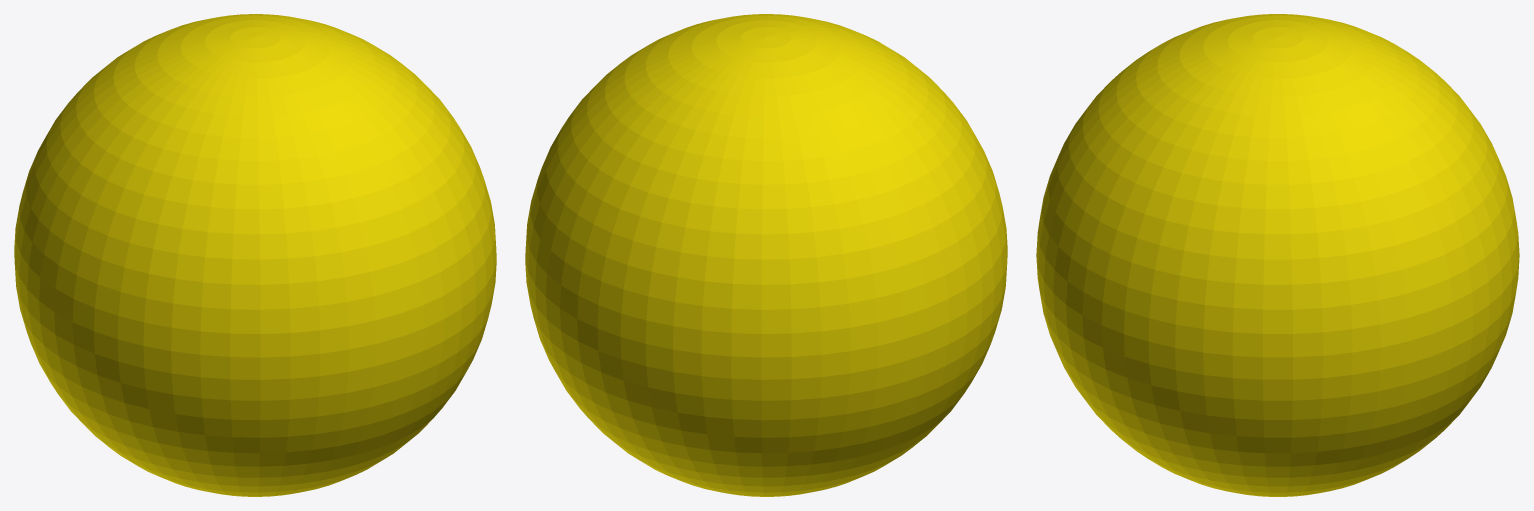
File: esfera.fbx
The picture shows the model from 3 angles, left to right: view 1: azimuth 30°, elevation 25°; view 2: azimuth 150°, elevation 25°; view 3: azimuth 270°, elevation 25°; orthographic projection.
Parts seen in each view (by area): view 1: Sphere; view 2: Sphere; view 3: Sphere.
Part boxes in pixels (bbox=[...]): Sphere: bbox=[14, 14, 496, 496]; Sphere: bbox=[525, 14, 1007, 496]; Sphere: bbox=[1036, 14, 1519, 496].
Size of the model in its own units: 312 by 313 by 313.
